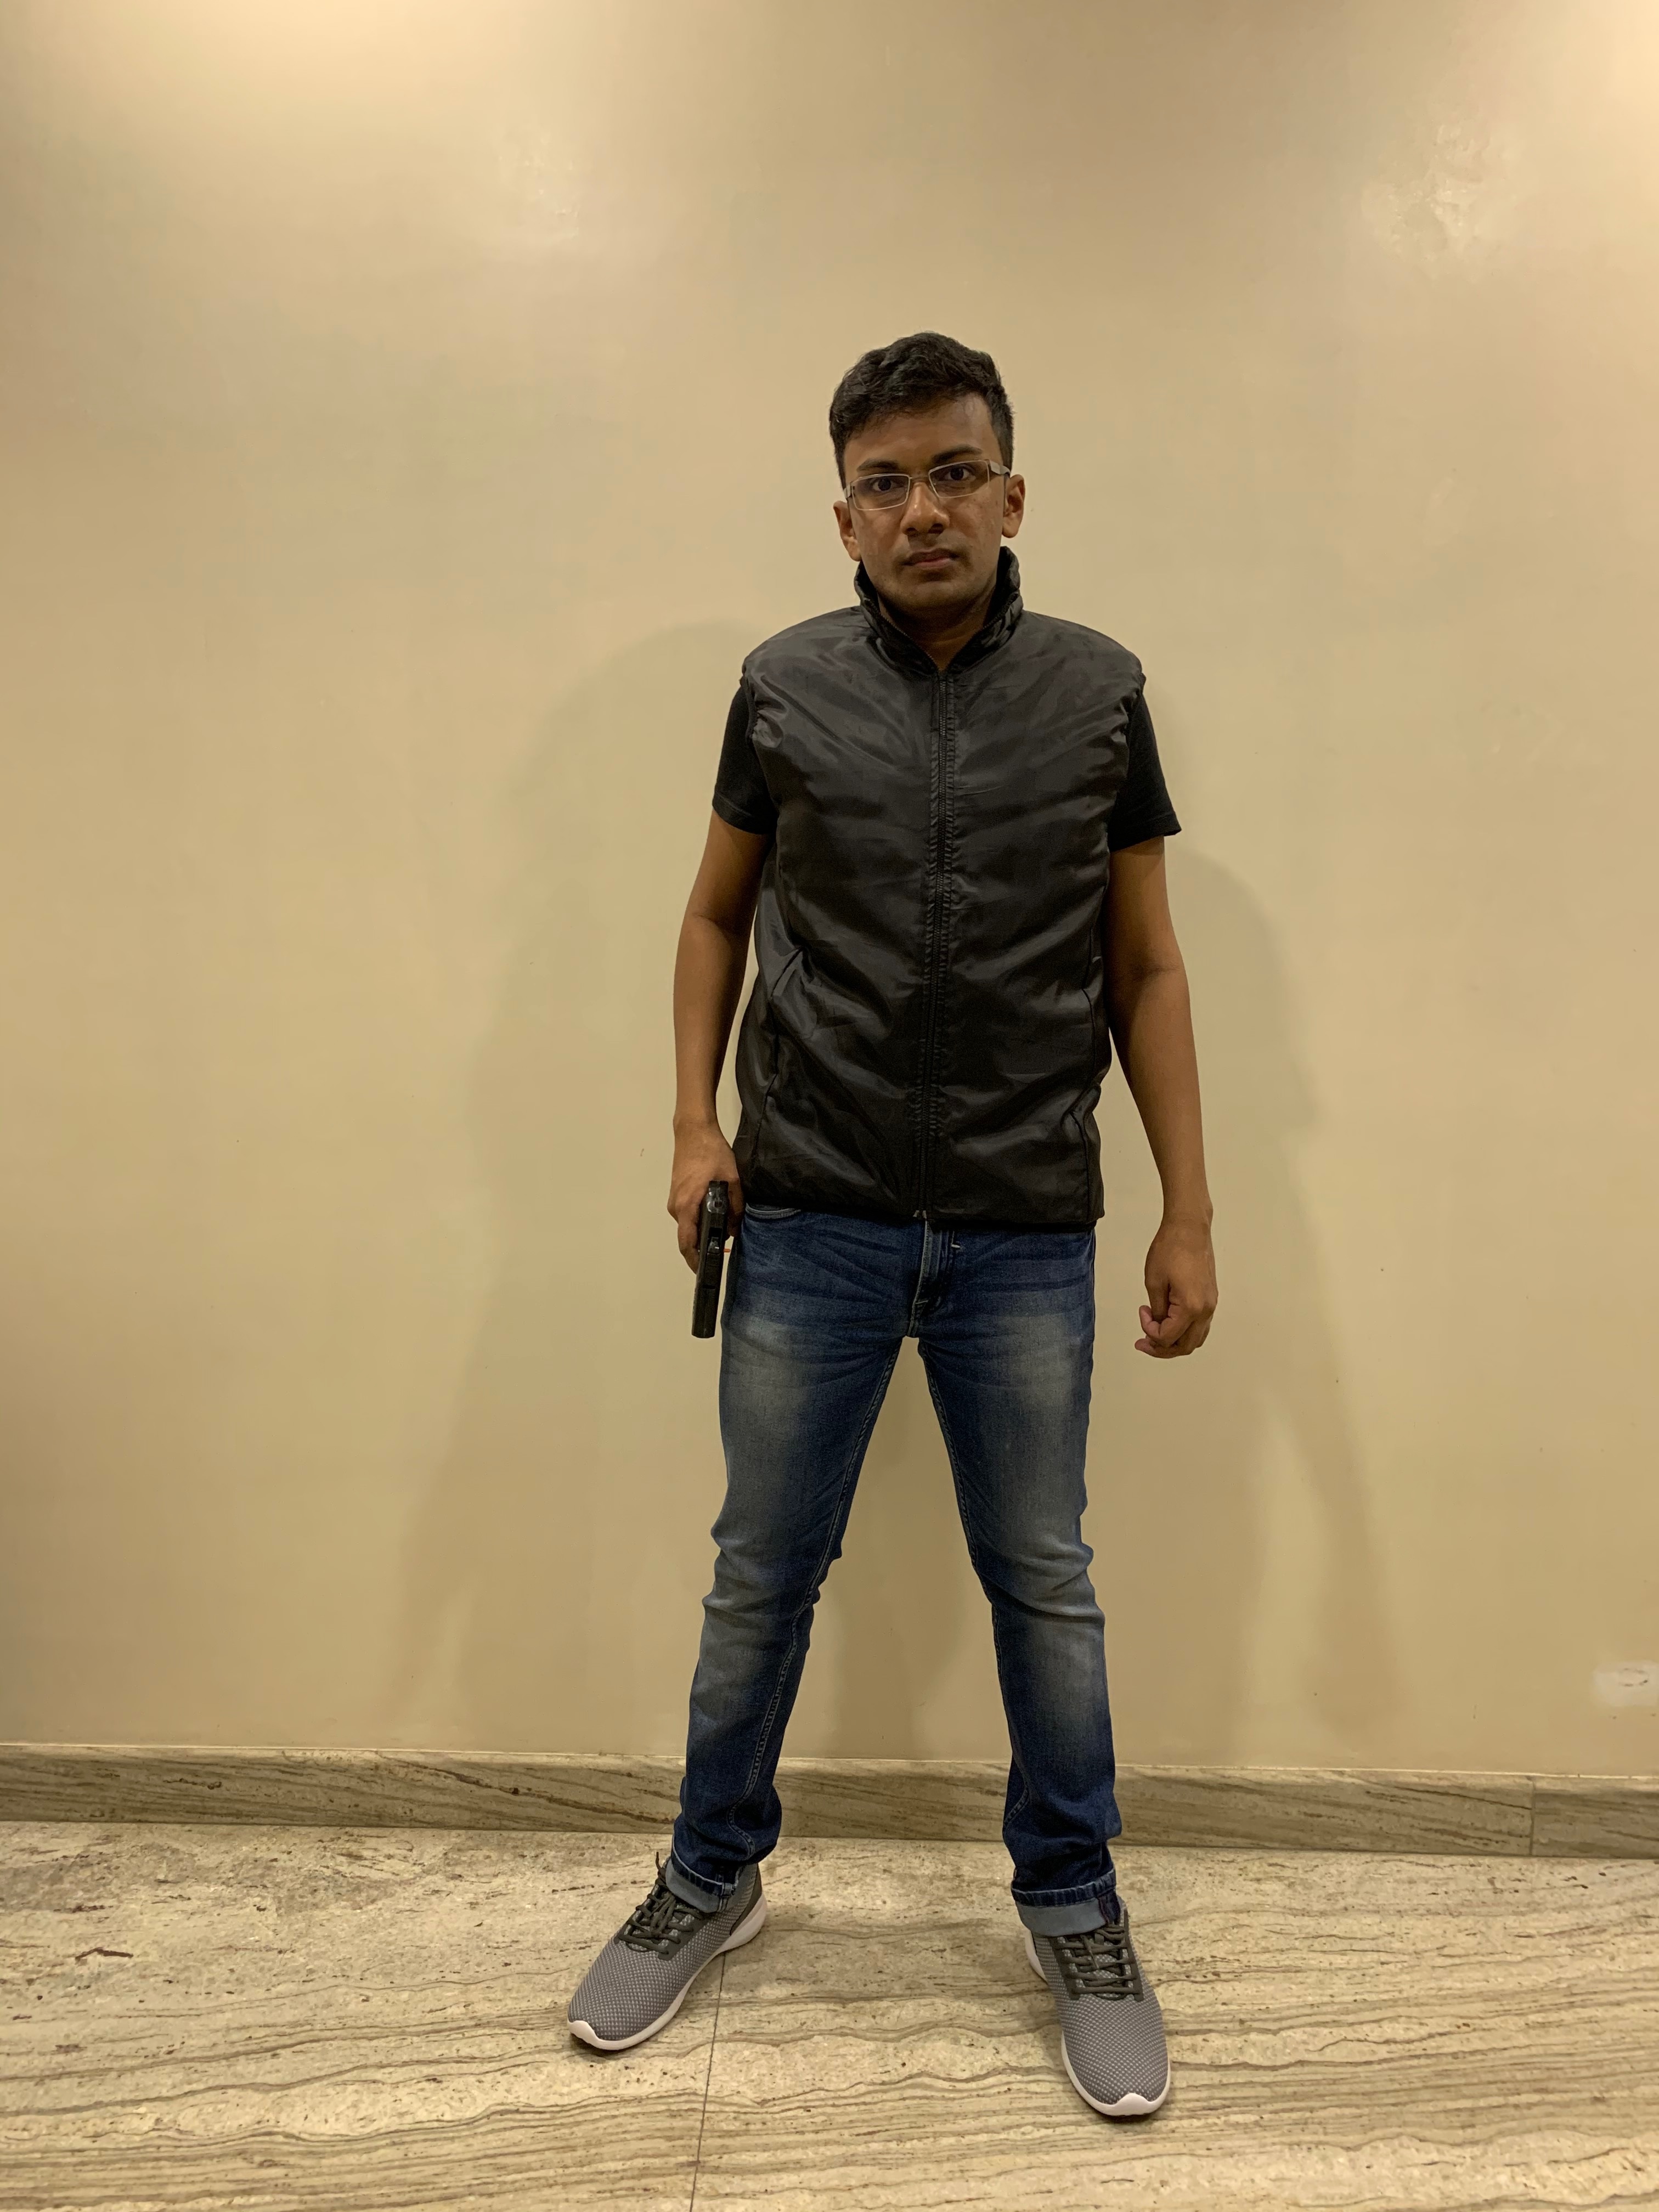gun: (685, 1176, 732, 1343)
